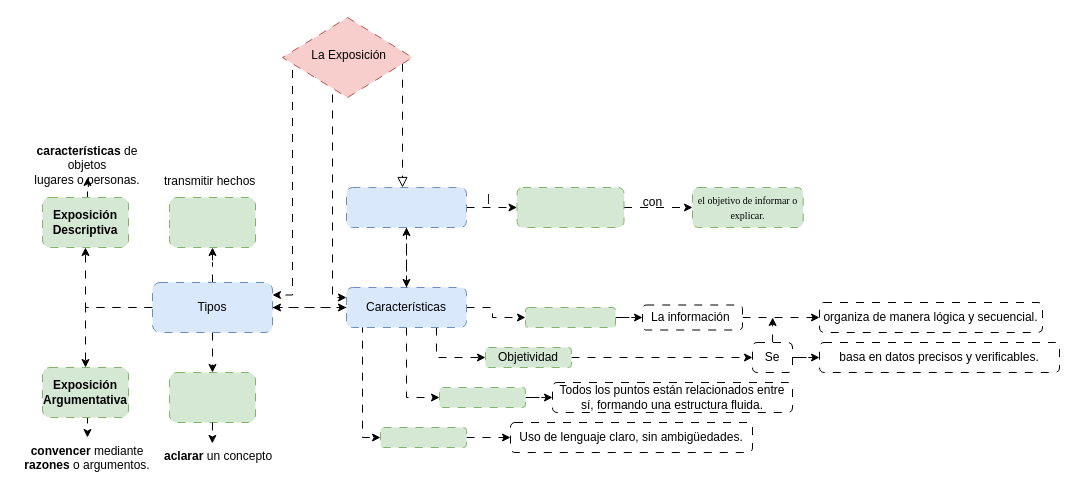
Some shapes in this 1077 by 500 pixel diagram are drawn without their labels. Here are the shapes that lost their labels. From the top down, the box of each, then its label:
(168, 196, 256, 248): Exposición Informativa
(346, 186, 466, 228): Concepto
(516, 186, 624, 228): Presentación estructurada de información
(524, 306, 616, 328): Claridad
(168, 372, 256, 422): Exposición Explicativa
(438, 386, 526, 408): Coherencia
(380, 426, 466, 448): Sencillez
